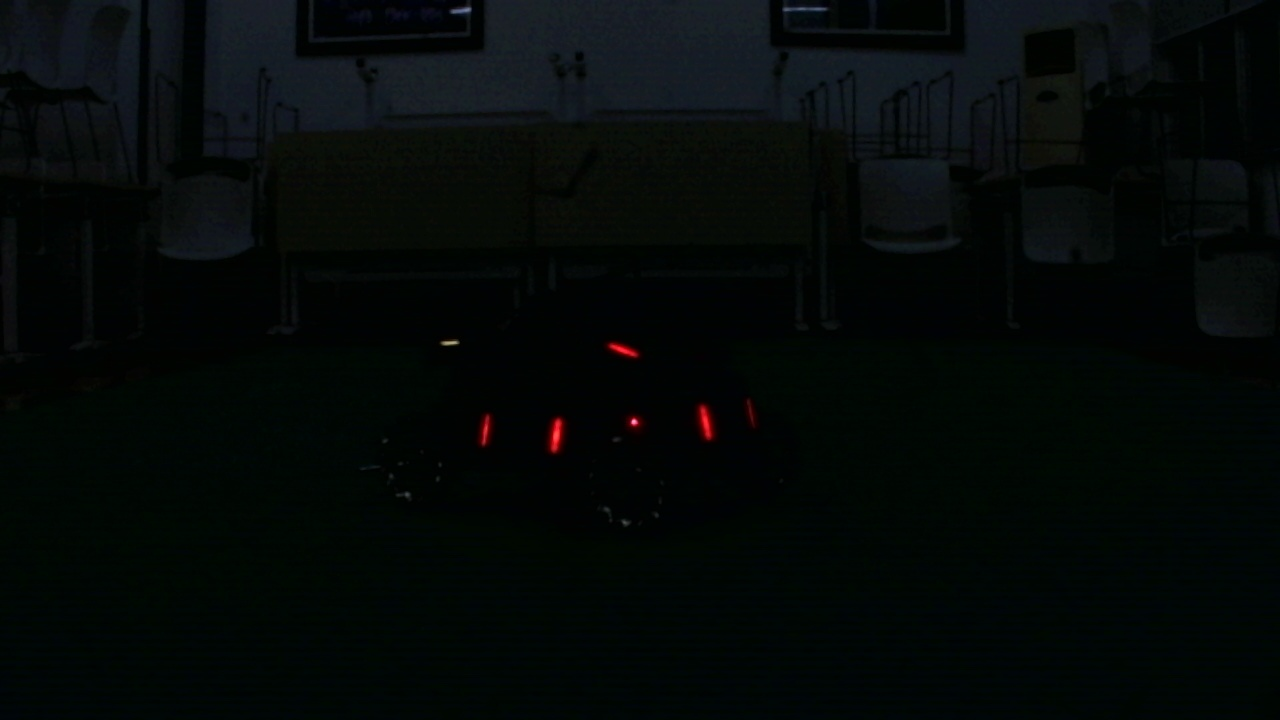lamp: (476, 411, 492, 450), (546, 414, 562, 451), (700, 401, 713, 445)
pair1: (478, 415, 562, 450)
